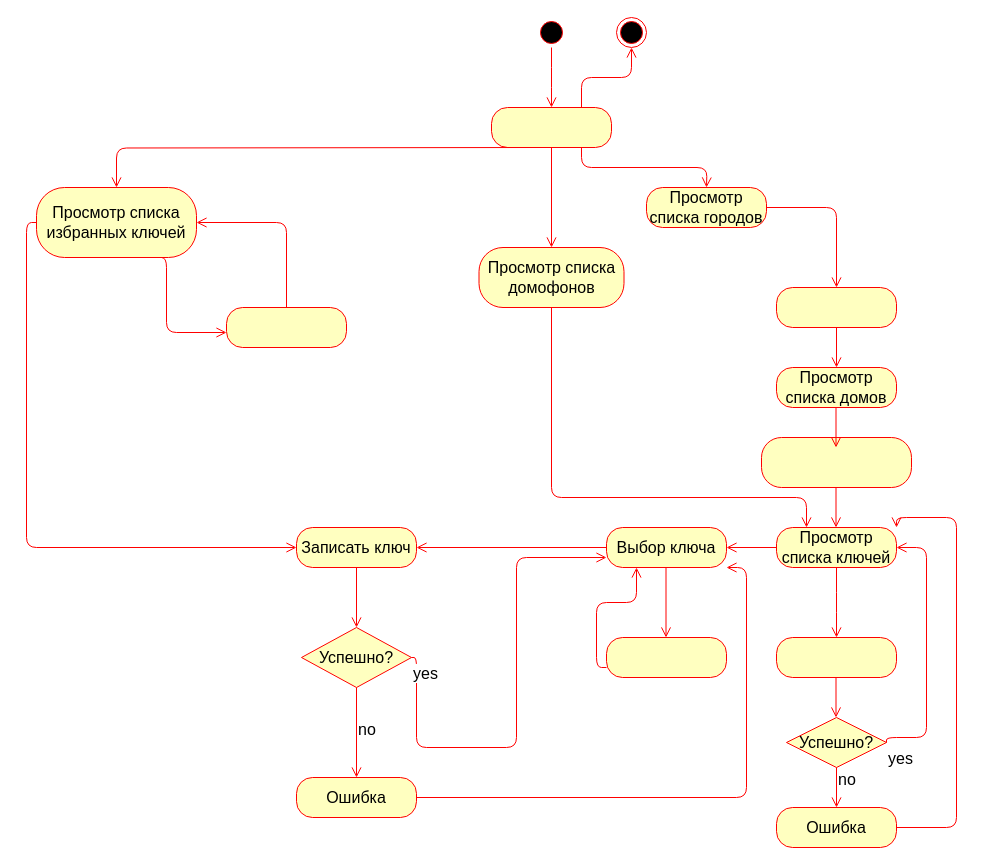
The diagram is 984 pixels wide and 865 high, and some of its shapes have lost their labels. Here are the shapes that lost their labels. From the top down, the centre of each, then its label:
(551,127): Ожидание действия
(286,327): Очистить список
(836,307): Просмотр списка улиц
(836,462): Просмотр списка подъездов
(666,657): Добавить в избранное
(836,657): Считать ключ
